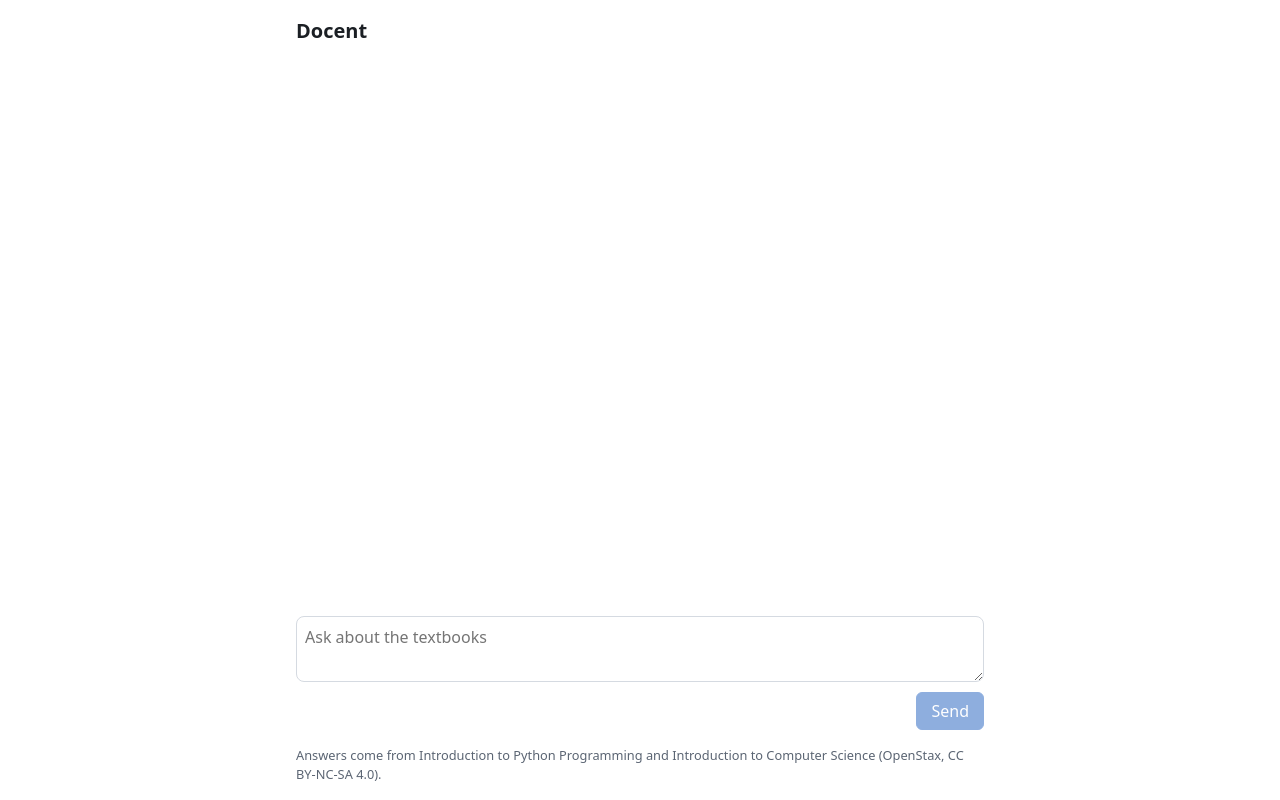
Test: answered › closes on Escape and returns focus to the chip
In the text box named "Question": (640, 649) [296,616,984,682], type "How does precedence work?"
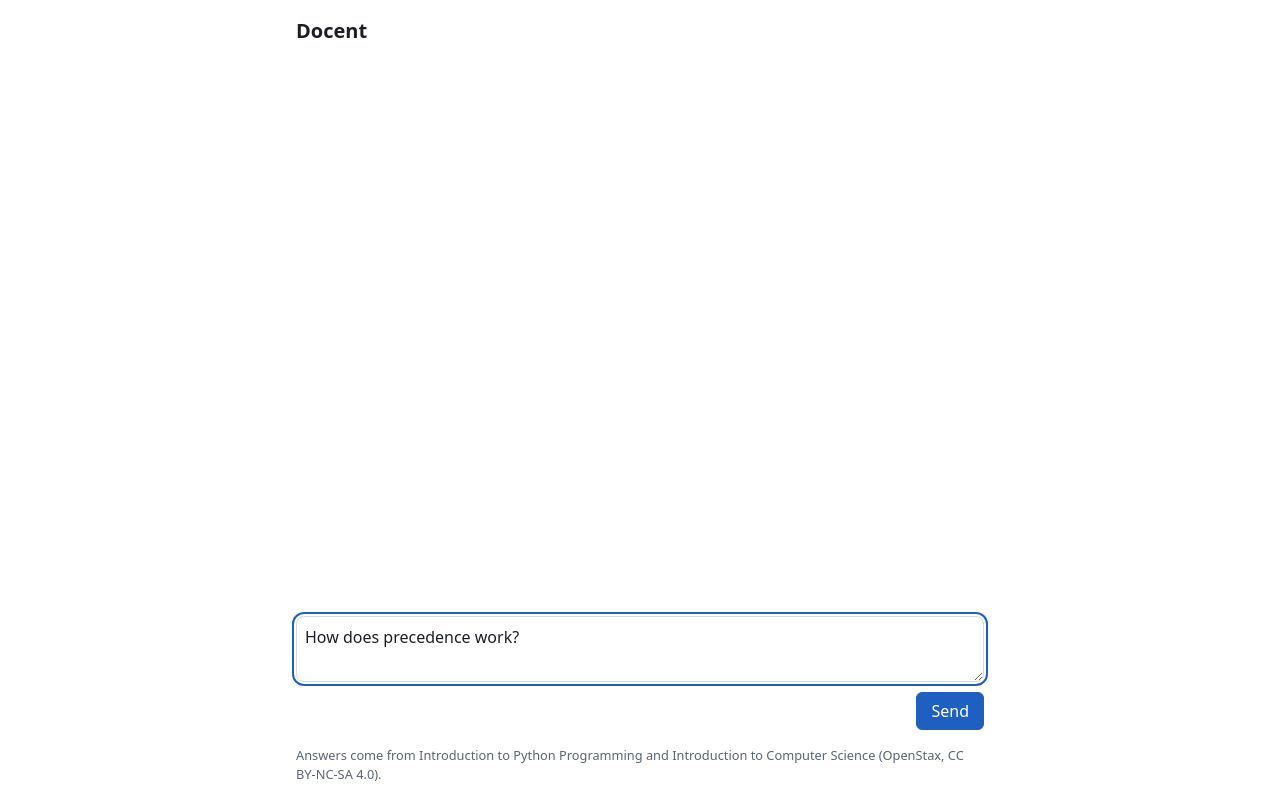
Press Enter
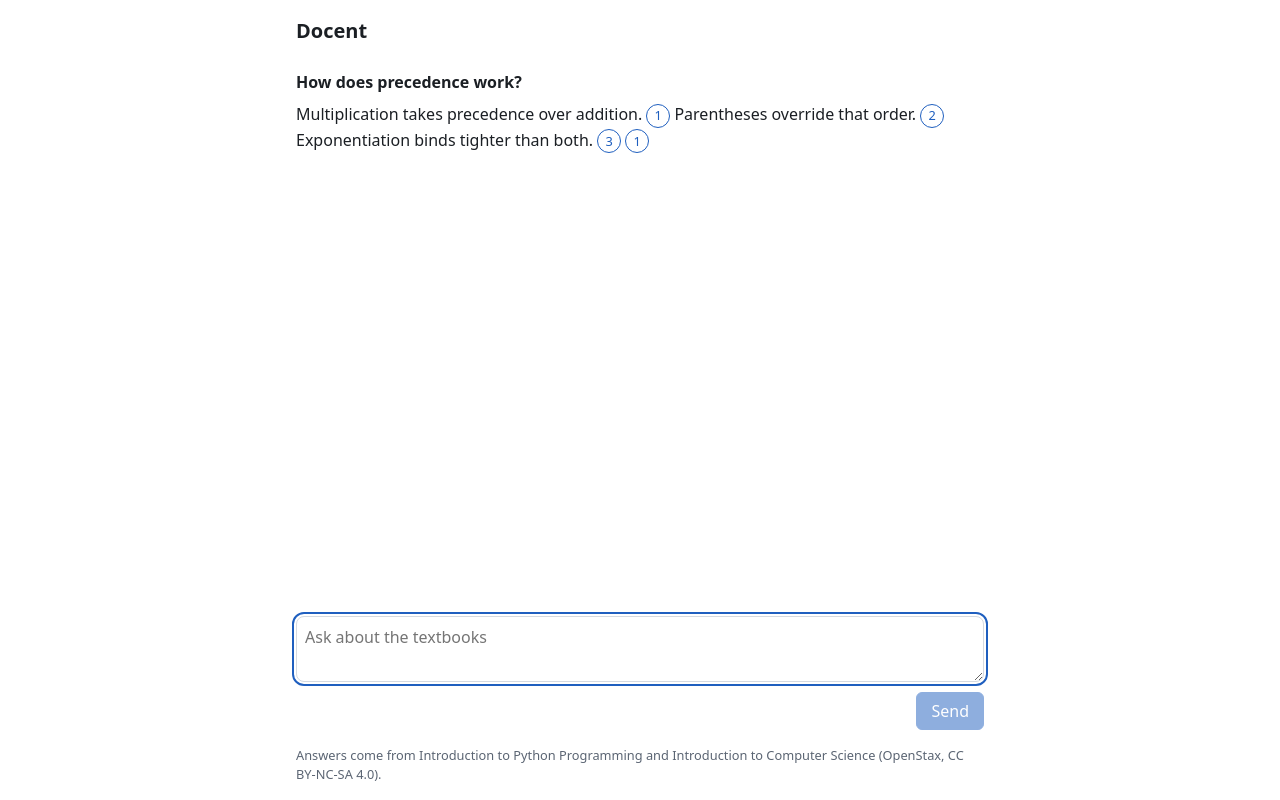
Click the button named "Source 2:": (932, 116) [920,104,944,128]
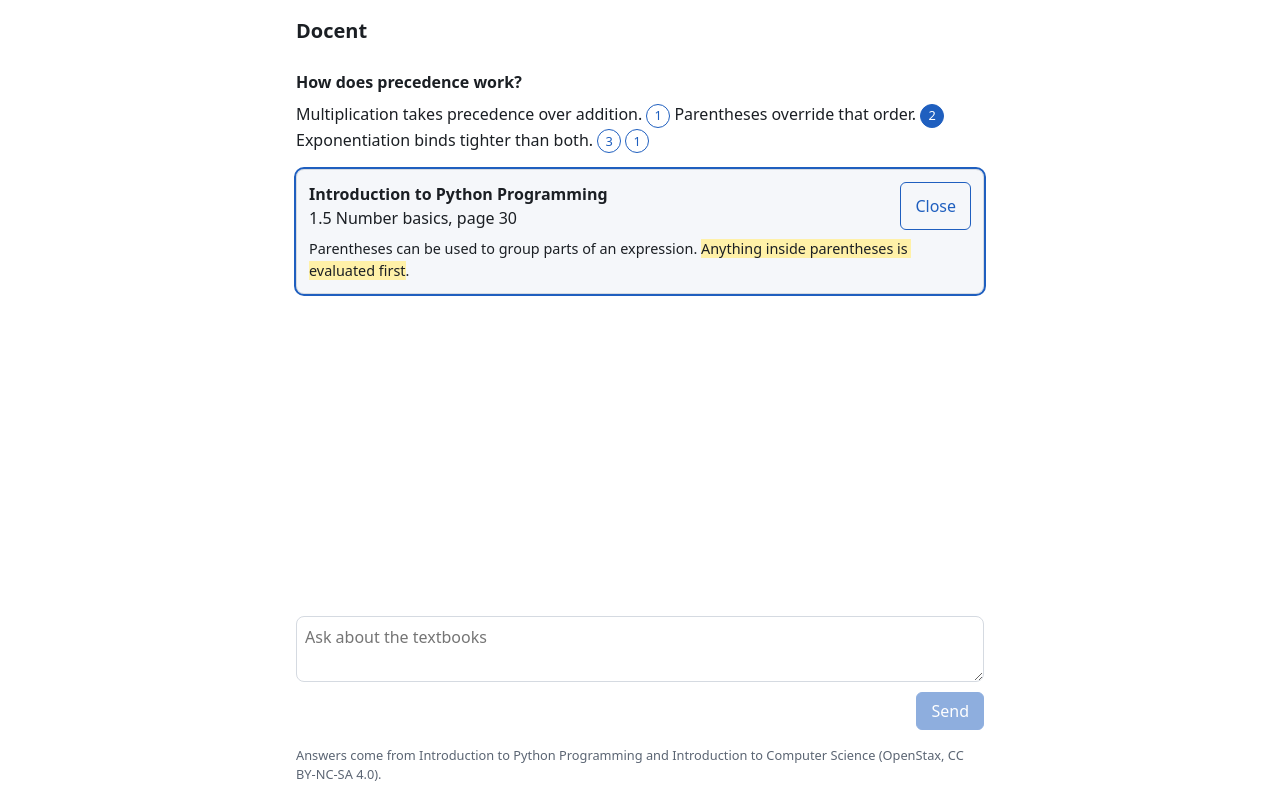
Press Escape
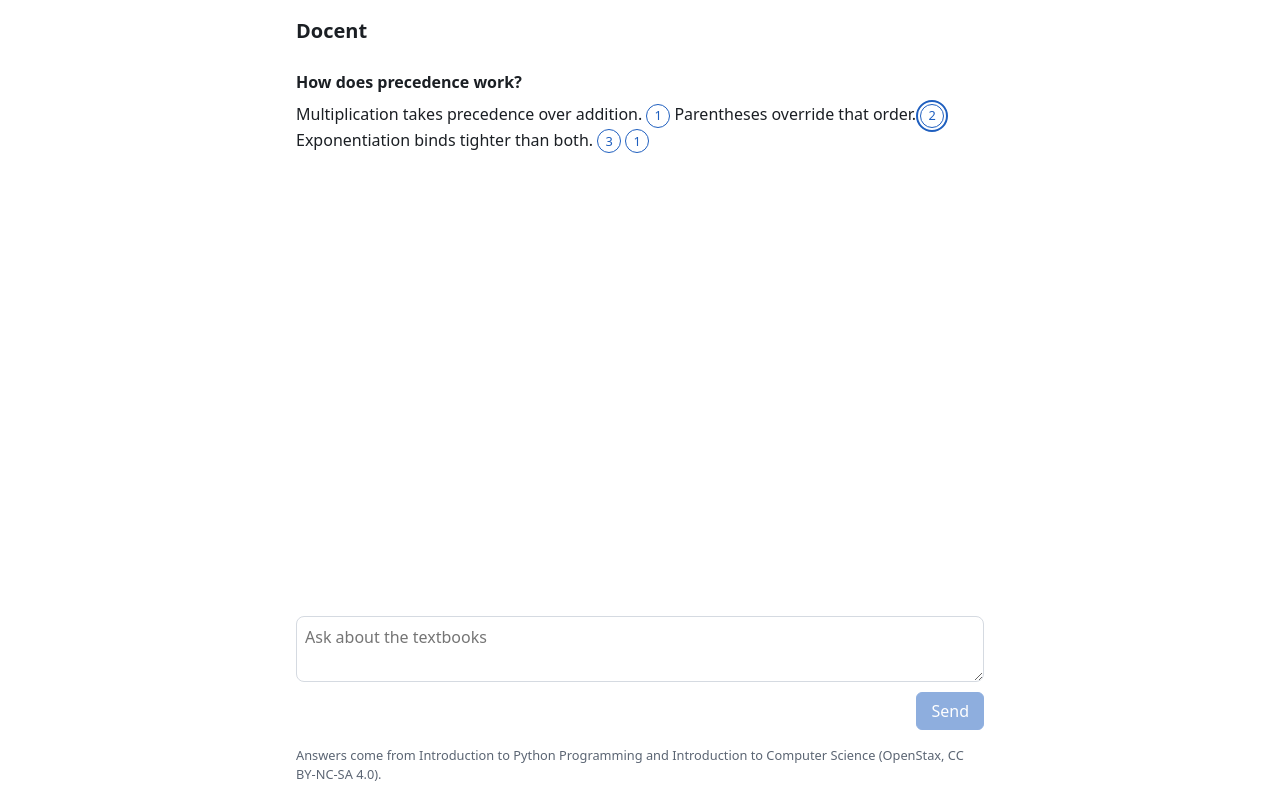
Check: the dialog is gone
